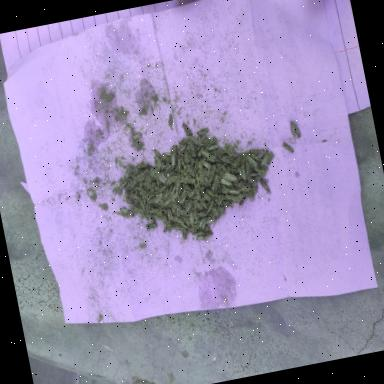pbw: (206, 164, 219, 184), (221, 170, 239, 184), (217, 150, 235, 164), (176, 189, 190, 205), (190, 132, 204, 148), (245, 154, 259, 170), (193, 232, 215, 242), (169, 140, 179, 162), (210, 175, 222, 193), (194, 172, 203, 196), (206, 186, 218, 204), (247, 150, 262, 164), (216, 161, 230, 176), (116, 178, 132, 191), (282, 140, 295, 156), (174, 172, 184, 192), (237, 164, 248, 182), (220, 176, 234, 190), (231, 154, 245, 168), (221, 144, 233, 160), (252, 164, 264, 180), (221, 156, 237, 168), (204, 198, 216, 214), (150, 192, 164, 205), (190, 204, 200, 222), (165, 174, 180, 186), (197, 216, 209, 231), (243, 160, 253, 178), (153, 148, 164, 164), (249, 146, 266, 156), (209, 148, 226, 158), (151, 205, 164, 218), (200, 148, 212, 162), (159, 222, 173, 234), (166, 183, 178, 197), (192, 198, 204, 212), (182, 122, 193, 137), (175, 158, 184, 175), (122, 164, 132, 179), (174, 202, 184, 217), (186, 162, 195, 178), (197, 200, 209, 212), (194, 184, 202, 202), (128, 190, 140, 202), (174, 214, 186, 226), (178, 134, 190, 146), (188, 210, 196, 228), (183, 199, 194, 212), (165, 162, 178, 173), (182, 180, 192, 194), (157, 172, 167, 186), (196, 127, 210, 137), (222, 192, 236, 202), (154, 185, 168, 195), (130, 132, 144, 142), (201, 158, 212, 170), (238, 196, 250, 207), (196, 209, 209, 219), (202, 190, 212, 203), (130, 175, 140, 188), (170, 154, 178, 170), (135, 162, 151, 170), (196, 134, 204, 150), (184, 176, 198, 185), (228, 187, 242, 196), (217, 202, 226, 216), (162, 186, 171, 200), (182, 214, 191, 228), (178, 221, 190, 231), (162, 198, 174, 208), (178, 144, 188, 156), (124, 184, 136, 194), (258, 166, 270, 176), (134, 184, 146, 194), (192, 156, 200, 171), (166, 207, 174, 222), (162, 152, 172, 164), (155, 157, 163, 171), (192, 230, 206, 238), (138, 171, 148, 182), (132, 204, 143, 214), (179, 174, 191, 183), (180, 156, 187, 171), (249, 170, 262, 178), (152, 212, 162, 222), (208, 136, 218, 146), (247, 176, 257, 186), (139, 198, 146, 212), (143, 200, 151, 212), (238, 184, 250, 192), (216, 194, 224, 206), (146, 223, 158, 231), (170, 223, 182, 231), (106, 94, 116, 103), (119, 206, 130, 214), (188, 187, 196, 198), (206, 144, 220, 150), (148, 213, 155, 224), (180, 226, 188, 235), (208, 154, 217, 162)
